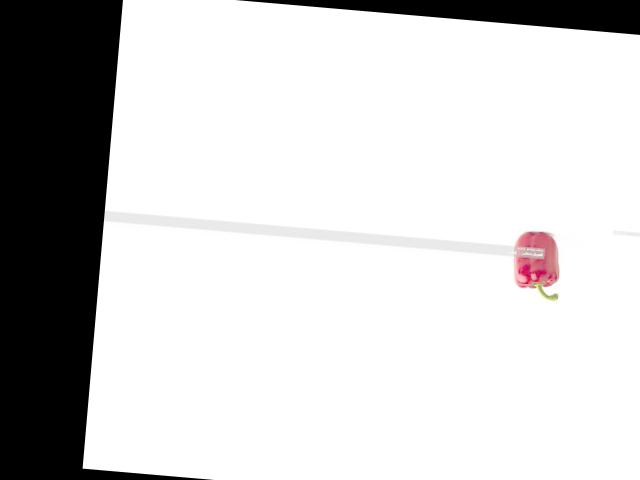bell_pepper: (506, 231, 569, 305)
